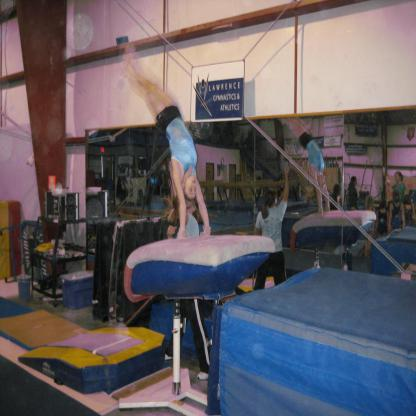face: (185, 177, 197, 197), (395, 175, 400, 182), (355, 180, 358, 184)
